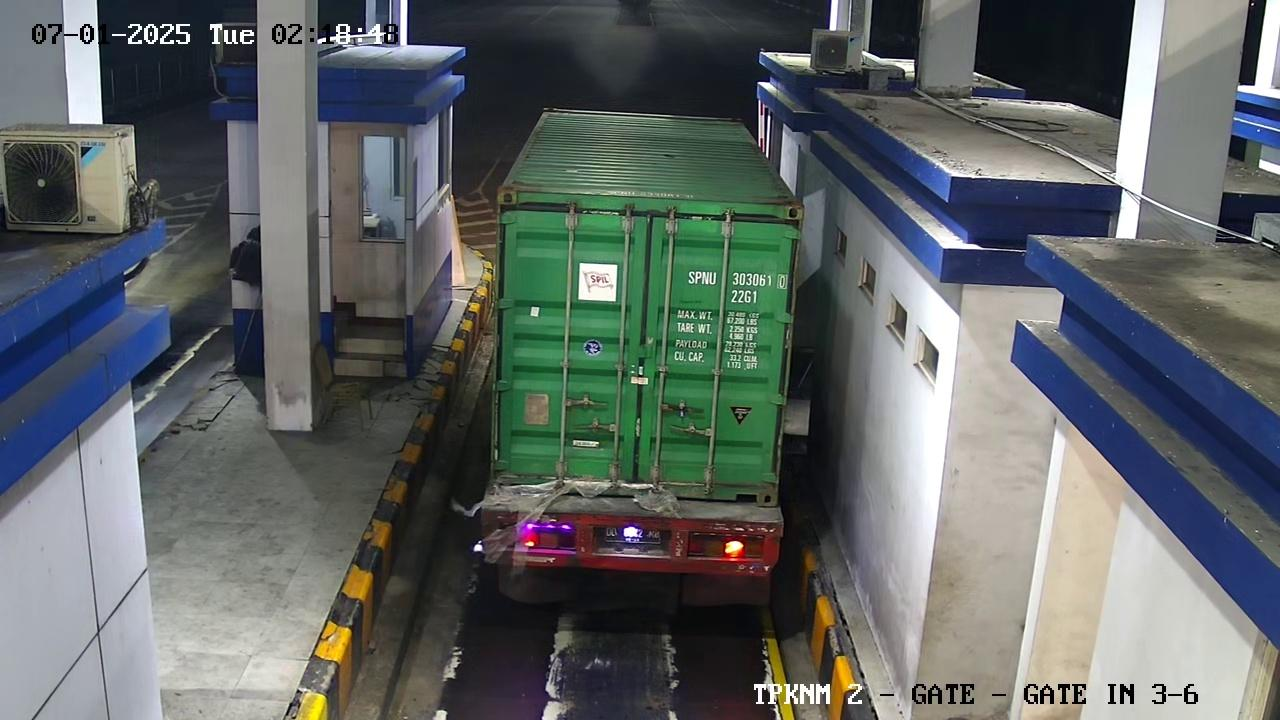Container_ID: (665, 263, 798, 309)
